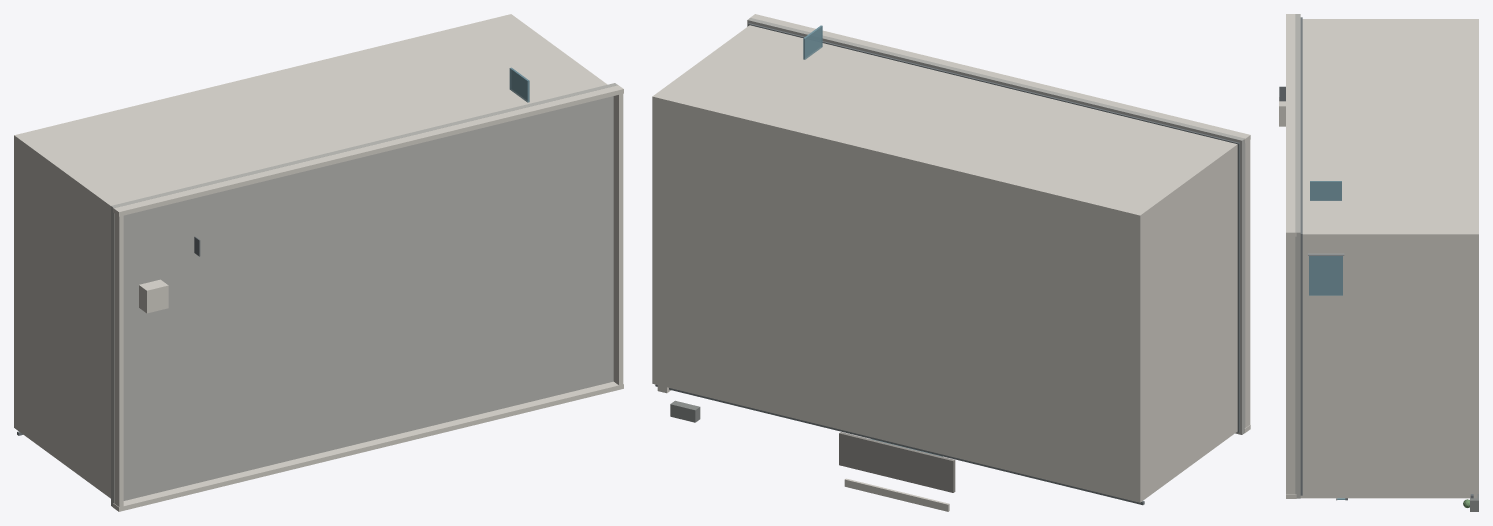
File: commercial_complex.glb
3 views of the same model, side by side, from view 1: azimuth 30°, elevation 25°; view 2: azimuth 150°, elevation 25°; view 3: azimuth 270°, elevation 25° (orthographic). The views are drawn at different scales.
Visible parts, largest first — view 1: Flat roof slab, Main concrete building mass, Rear parapet, Front parapet, Right parapet, Left parapet, Low rooftop service enclosure; view 2: Main concrete building mass, Flat roof slab, Entry landing, Rear parapet, Horizontal charcoal facade band, Left parapet, Ground floor sill, Entrance step; view 3: Main concrete building mass, Flat roof slab, Right parapet, Rear parapet, Horizontal charcoal facade band, Side window, Concrete vertical pier, Rear window.
Part boxes in pixels (<box>): Flat roof slab: <box>111,83,617,506</box>; Main concrete building mass: <box>14,14,607,498</box>; Rear parapet: <box>113,85,623,216</box>; Front parapet: <box>113,381,623,511</box>; Right parapet: <box>613,93,623,386</box>; Left parapet: <box>114,213,123,507</box>; Low rooftop service enclosure: <box>139,279,168,313</box>; Main concrete building mass: <box>652,25,1237,502</box>; Flat roof slab: <box>747,18,1245,434</box>; Entry landing: <box>839,432,955,492</box>; Rear parapet: <box>749,14,1250,143</box>; Horizontal charcoal facade band: <box>748,23,1239,432</box>; Left parapet: <box>1245,140,1250,427</box>; Ground floor sill: <box>655,384,1144,505</box>; Entrance step: <box>844,478,949,511</box>; Main concrete building mass: <box>1302,19,1478,493</box>; Flat roof slab: <box>1295,14,1300,498</box>; Right parapet: <box>1286,236,1295,494</box>; Rear parapet: <box>1286,14,1296,236</box>; Horizontal charcoal facade band: <box>1300,17,1302,495</box>; Side window: <box>1309,256,1342,295</box>; Concrete vertical pier: <box>1300,494,1477,498</box>; Rear window: <box>1310,181,1341,200</box>.
Bounding box in the file's own units: 32.5 × 22.85 × 12.55.
